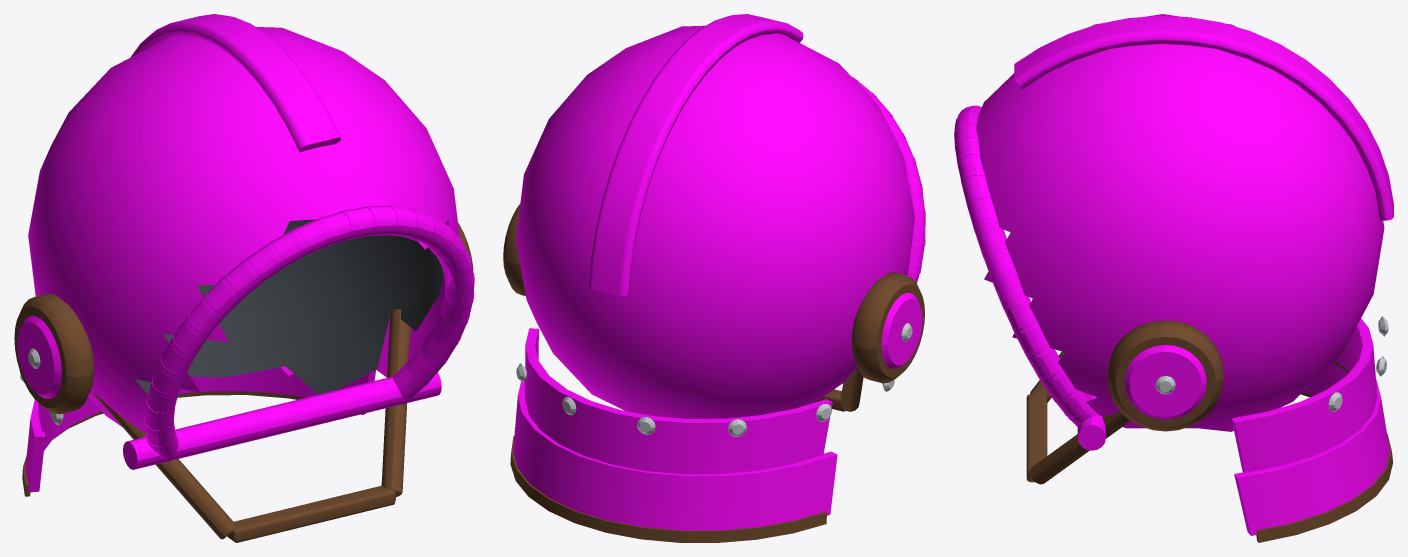
The model's file is porte_armure1_casque.glb.
3 views of the same model, side by side, from view 1: azimuth 30°, elevation 25°; view 2: azimuth 150°, elevation 25°; view 3: azimuth 270°, elevation 25° (orthographic). The views are drawn at different scales.
Parts seen in each view (by area): view 1: tete__casque_teinte.006, tete__casque_teinte_sombre.006, tete__casque_sac_cuir.002; view 2: tete__casque_teinte.006, tete__casque_sac_cuir.002, tete__casque_rivet.004; view 3: tete__casque_teinte.006, tete__casque_sac_cuir.002, tete__casque_rivet.004.
Part boxes in pixels (x1,y1,x2,y2): tete__casque_teinte.006: (17,14,474,492); tete__casque_teinte_sombre.006: (135,219,443,394); tete__casque_sac_cuir.002: (14,223,473,542); tete__casque_teinte.006: (513,14,925,530); tete__casque_sac_cuir.002: (503,204,924,542); tete__casque_rivet.004: (516,323,912,436); tete__casque_teinte.006: (954,14,1393,535); tete__casque_sac_cuir.002: (1026,320,1393,542); tete__casque_rivet.004: (1155,316,1388,411).
Size of the model in its own units: 0.368 by 0.377 by 0.3416.
